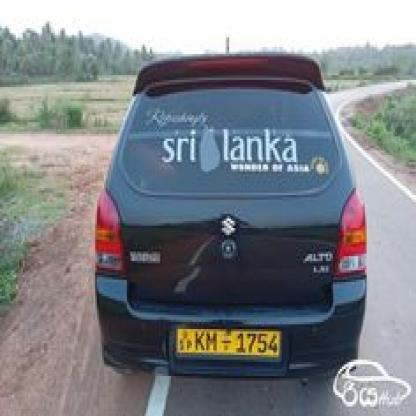car back: (88, 49, 368, 386)
number plate: (175, 326, 278, 358)
